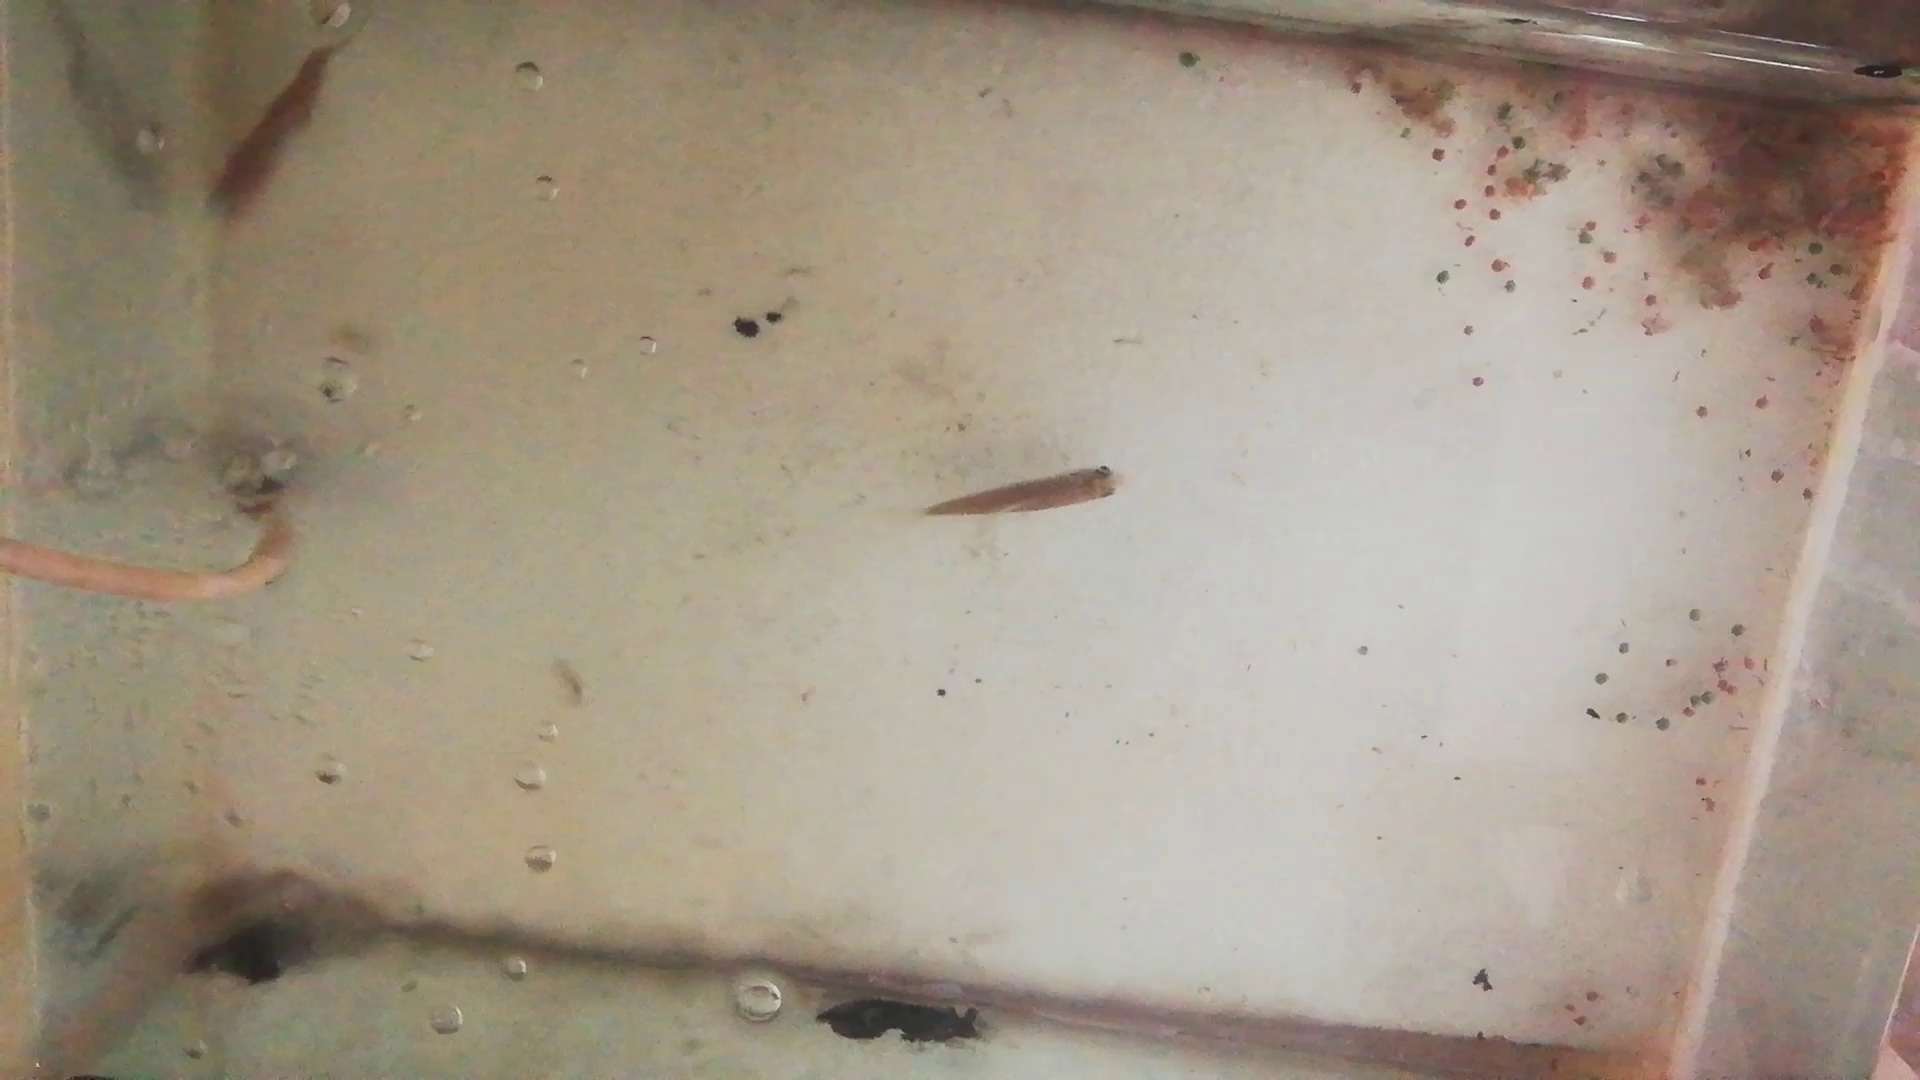fish: (200, 44, 344, 224), (920, 462, 1127, 520)
